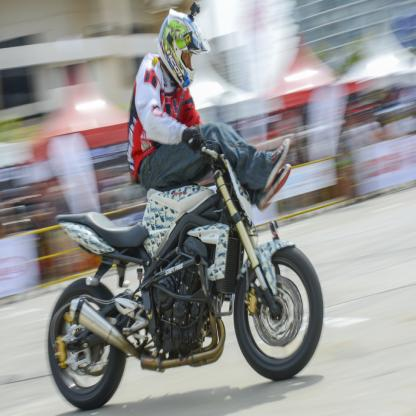Helmet: (156, 14, 208, 89)
